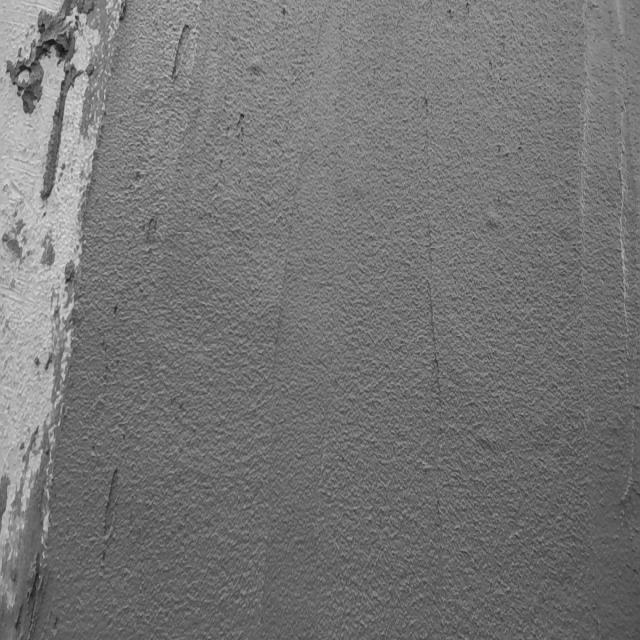trowels marks: (415, 85, 447, 491)
